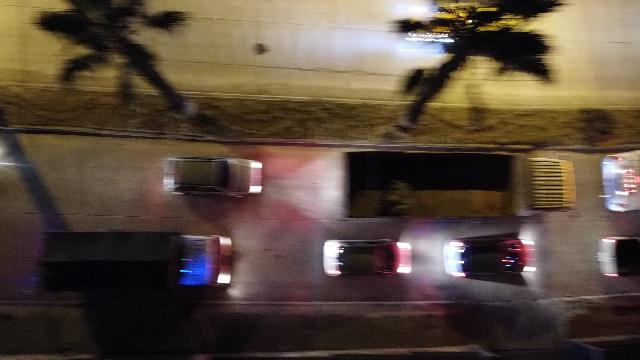Vehiculo: (445, 234, 538, 278), (164, 158, 262, 195), (322, 240, 412, 276)
